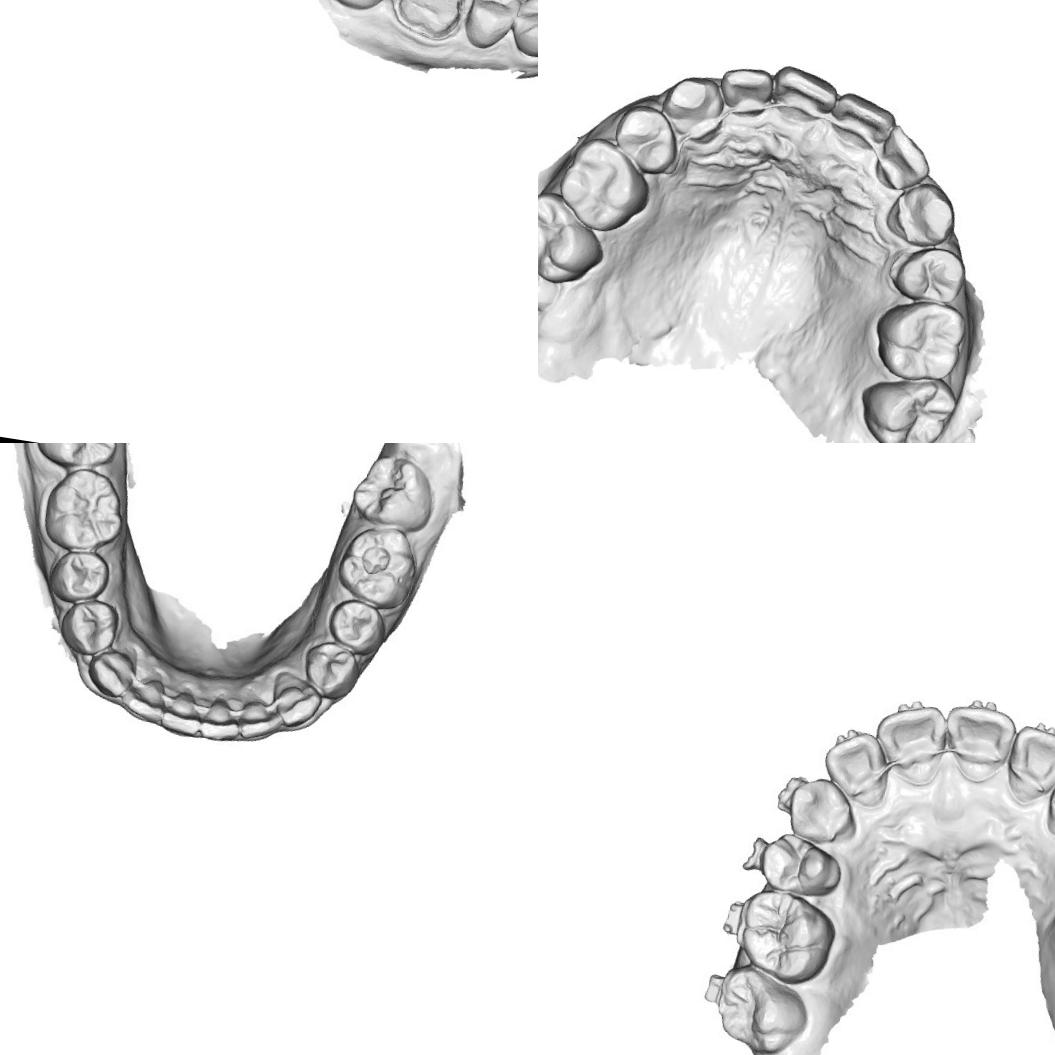canine: (777, 771, 865, 849), (662, 74, 736, 153), (886, 181, 954, 253), (88, 644, 138, 694), (274, 672, 320, 726)
crown: (387, 0, 472, 43)
incisor: (876, 700, 954, 788), (945, 698, 1017, 786), (814, 728, 891, 806), (717, 63, 781, 125), (774, 64, 837, 126), (834, 94, 895, 154), (873, 129, 930, 193), (1009, 728, 1055, 799), (122, 672, 174, 726), (198, 690, 244, 742), (236, 693, 280, 745), (160, 687, 205, 734)
molar: (732, 886, 844, 988), (705, 963, 814, 1055), (36, 462, 132, 557), (880, 296, 972, 386), (340, 523, 427, 615), (538, 192, 614, 292), (858, 369, 960, 443), (561, 139, 644, 228), (346, 450, 436, 531), (32, 443, 121, 474)
premolar: (754, 827, 849, 905), (612, 98, 678, 177), (54, 592, 122, 660), (899, 244, 968, 307), (50, 544, 114, 606), (323, 595, 382, 654), (460, 0, 524, 54), (306, 642, 364, 694), (507, 0, 538, 62)
